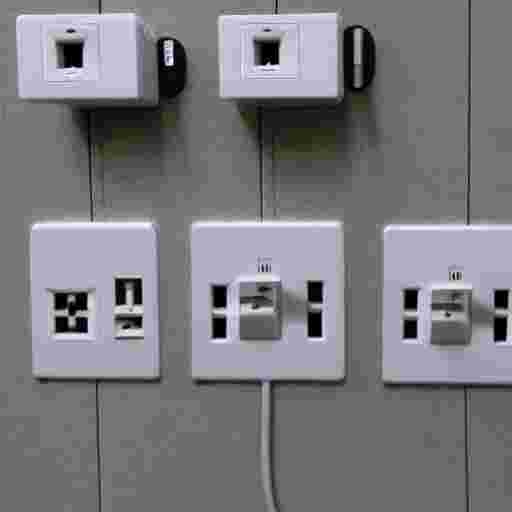power outlet: (191, 221, 344, 380), (382, 225, 511, 383), (31, 222, 159, 378), (16, 13, 157, 105), (218, 11, 343, 101)
